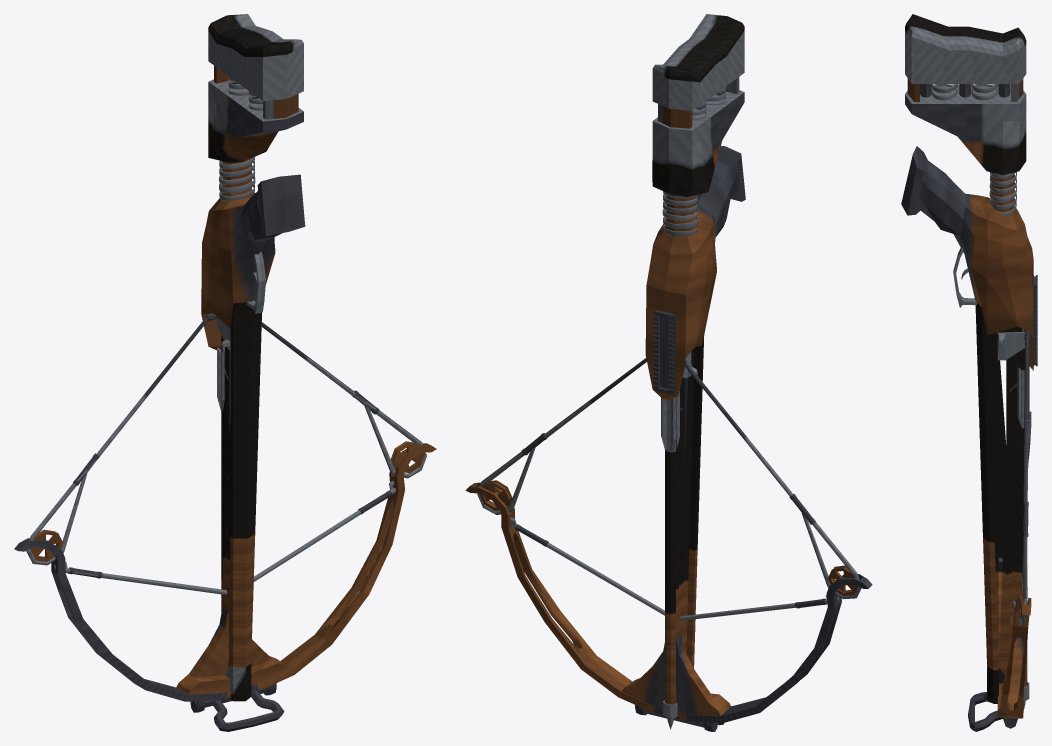
Rendered from CompoundCrossBowDrawn.fbx.
3 views of the same model, side by side, from view 1: azimuth 30°, elevation 25°; view 2: azimuth 150°, elevation 25°; view 3: azimuth 270°, elevation 25° (orthographic). The views are drawn at different scales.
Visible parts, largest first — view 1: CompoundCrossbowDrawn; view 2: CompoundCrossbowDrawn; view 3: CompoundCrossbowDrawn.
Part boxes in pixels (bbox=[...]): CompoundCrossbowDrawn: bbox=[14, 14, 436, 731]; CompoundCrossbowDrawn: bbox=[465, 14, 872, 731]; CompoundCrossbowDrawn: bbox=[901, 14, 1037, 731].
Bounding box in the file's own units: 0.3657 × 0.5879 × 0.1046.
